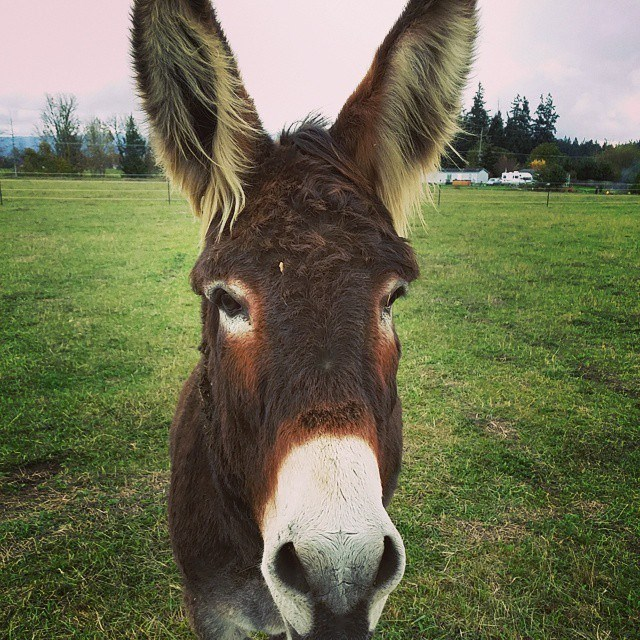donkey: (127, 1, 480, 639)
